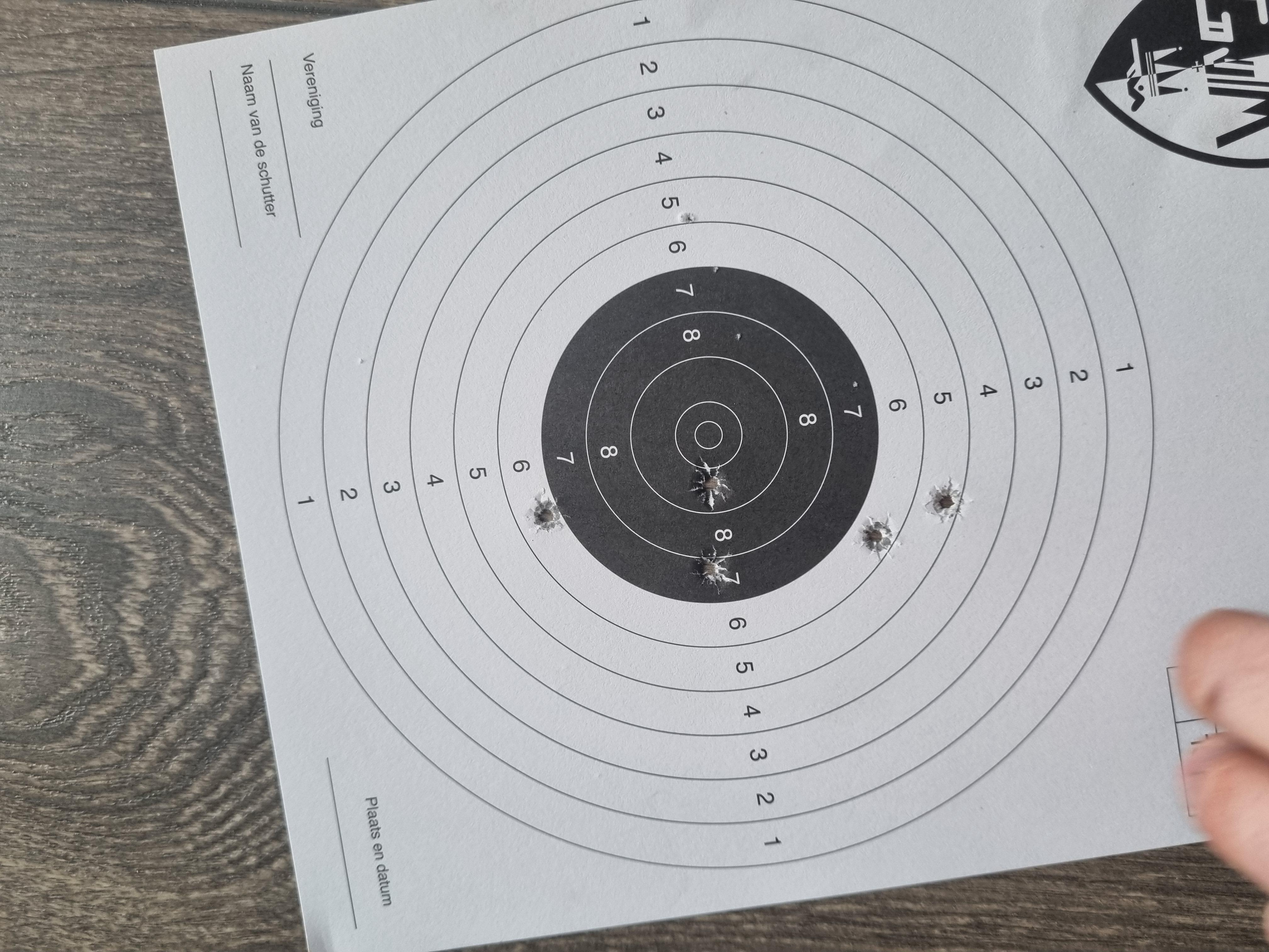hole: (589, 515, 660, 547), (520, 645, 585, 671), (571, 696, 632, 723), (489, 521, 540, 547), (556, 399, 609, 423)
